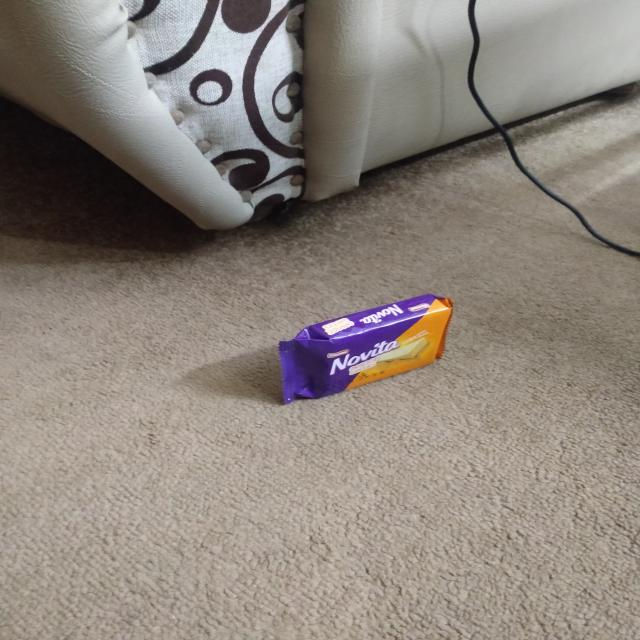Plastic: (271, 295, 456, 398)
